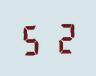five: (19, 21, 47, 56)
two: (48, 20, 76, 54)
